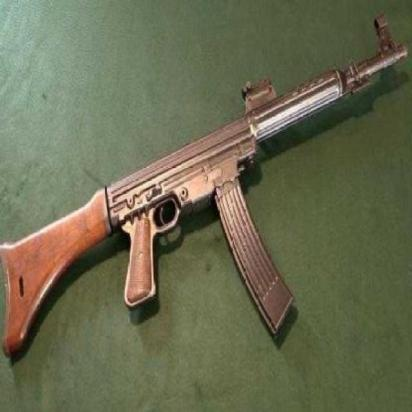Gun: (0, 0, 411, 392)
